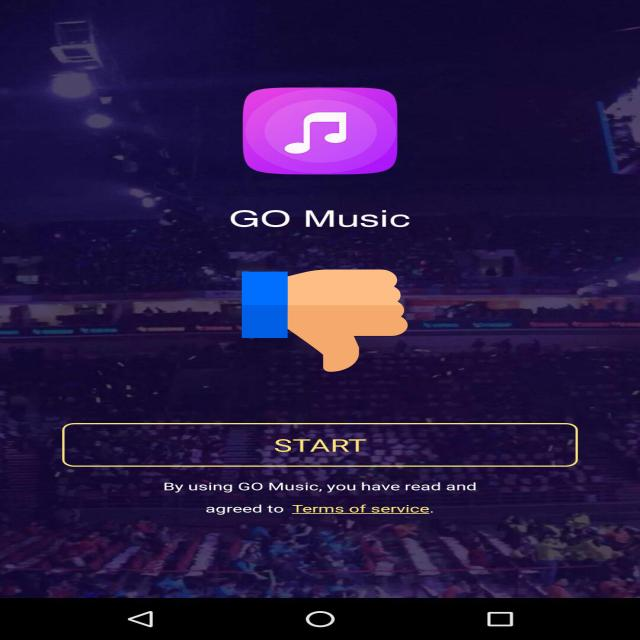obstruction: (242, 267, 408, 374)
